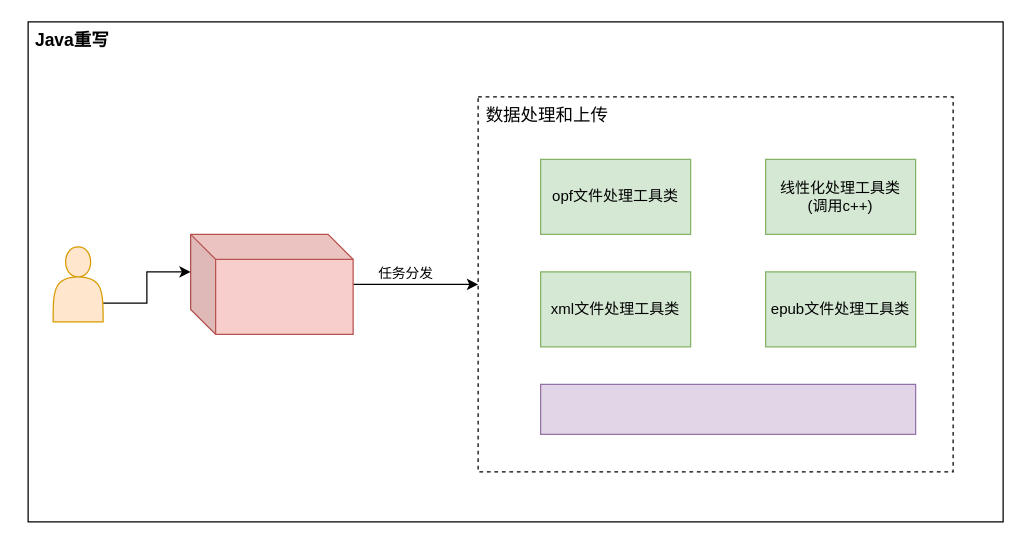
Some shapes in this 1025 by 544 pixel diagram are drawn without their labels. The centre of each missing label's shape, as x and y in pixels:
多线程上传: [727,408]
批量操作框架: [271,283]
